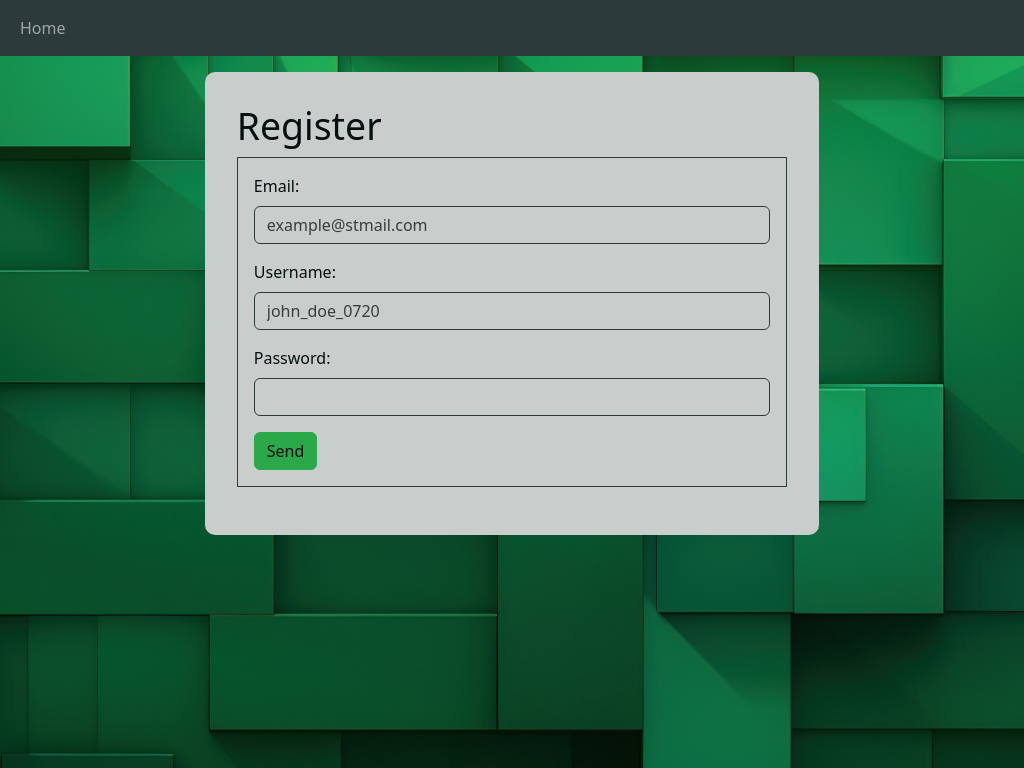
Test case: redirects to sign in page after successful registration
The width and height of the screenshot is (1024, 768).
Type "alma" into the field labelled "Username:" at (512, 311), box [254,292,770,330]
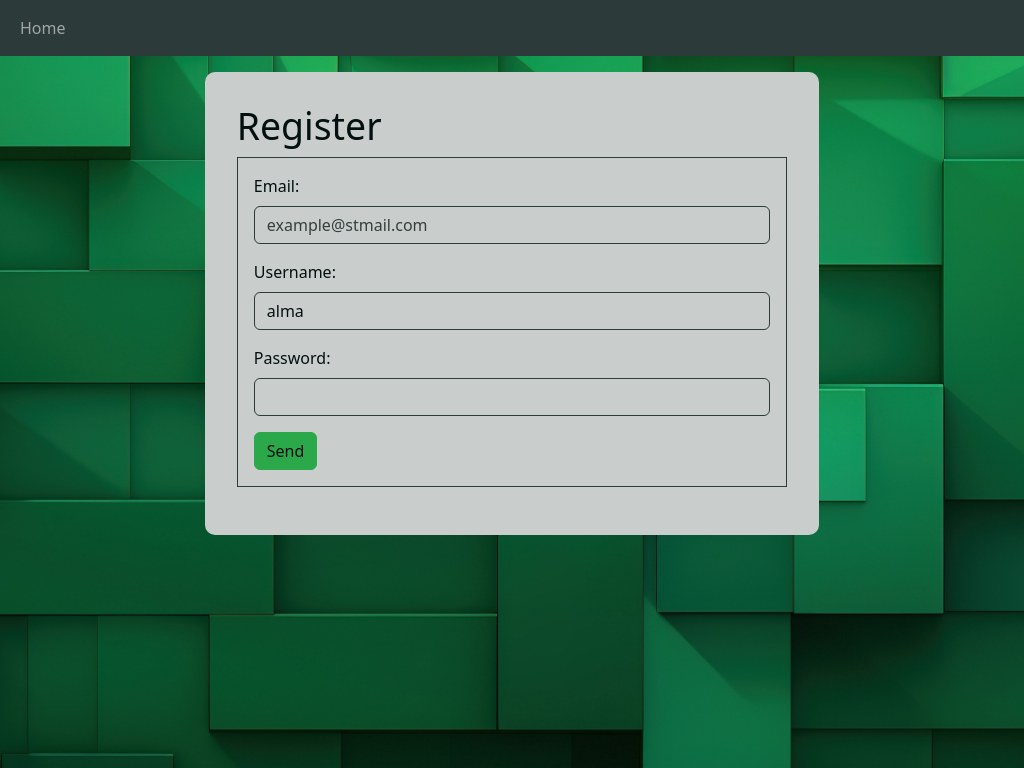
Type "alma@gmail.com" into the field labelled "Email:" at (512, 225), box [254,206,770,244]
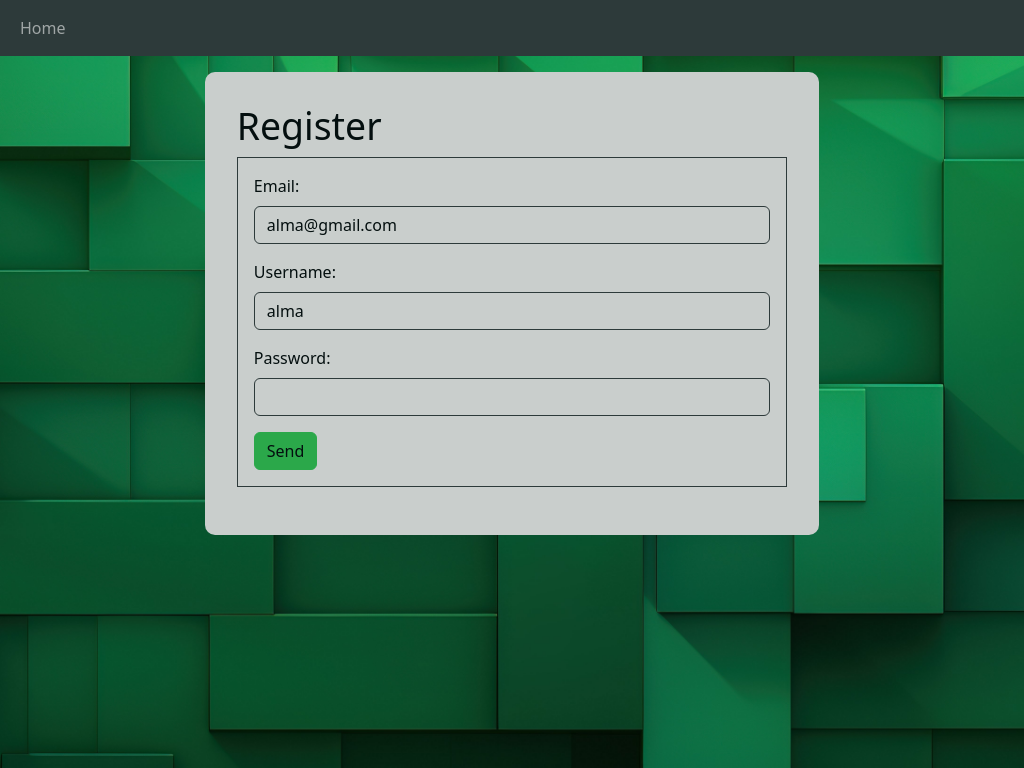
Type "alma12" into the password field labelled "Password:" at (512, 397), box [254,378,770,416]
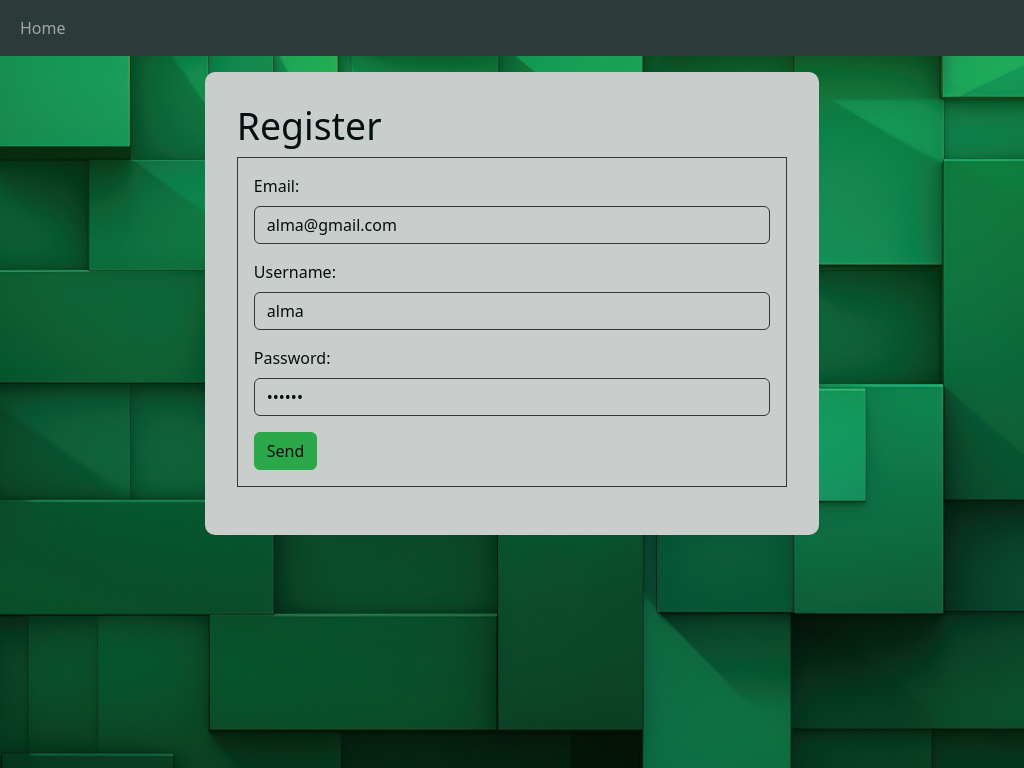
Click the button "Send" at (286, 451), box [254,432,317,470]
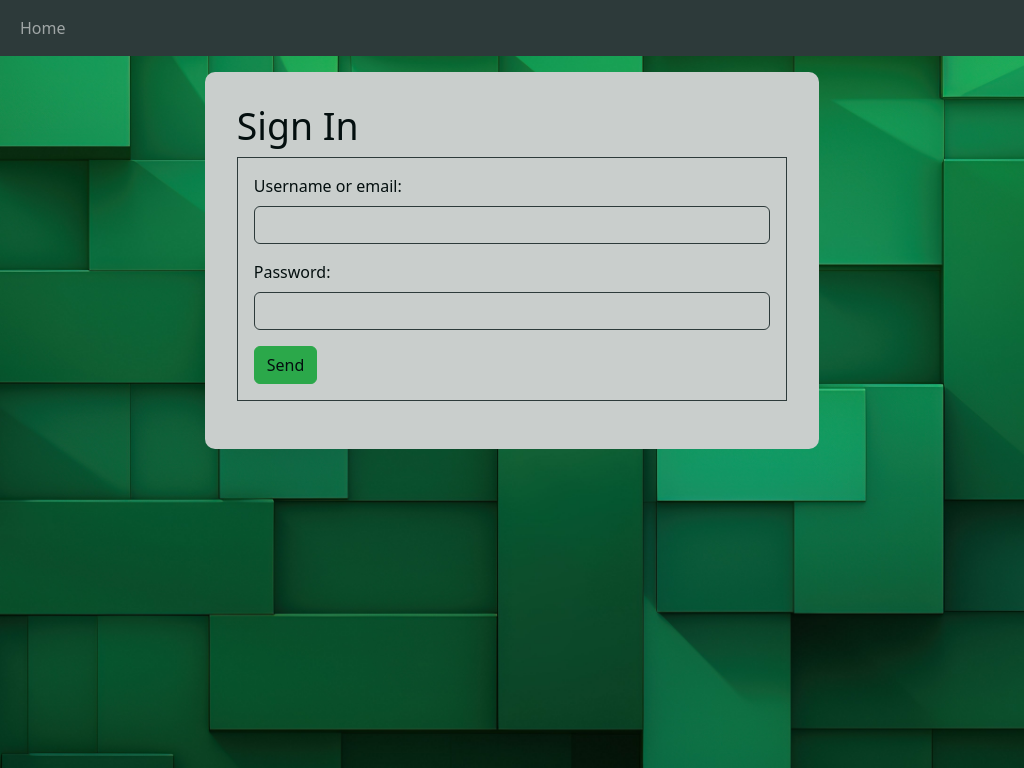
Expected: the heading "Sign In" is shown, [237,100,358,151]
